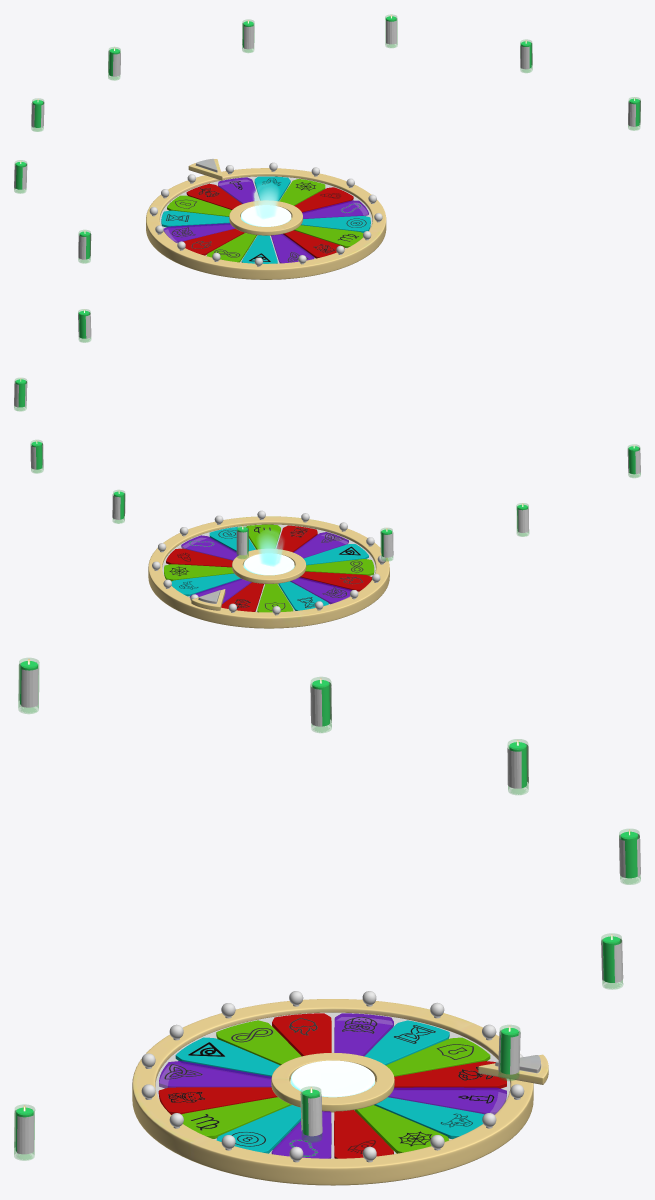
The model's file is alligatorStroll6.glb.
3 renders of one model, top to bottom at view 1: azimuth 30°, elevation 25°; view 2: azimuth 150°, elevation 25°; view 3: azimuth 270°, elevation 25°, orthographic. The views are drawn at different scales.
Visible parts, largest first — view 1: base, center_circle_frame, spheres, base_field, wheel_section.002, wheel_section.010, wheel_section.003, wheel_section.009, wheel_section.011, wheel_section.001, center_circle, wheel_section.004 (+11 smaller); view 2: base, center_circle_frame, spheres, wheel_section.004, wheel_section.014, wheel_section.013, wheel_section.005, wheel_section.012, center_circle, wheel_section.003, wheel_section.006, Object_3 (+11 smaller); view 3: base, center_circle_frame, spheres, center_circle, wheel_section.008, wheel_section.015, wheel_section.007, wheel_section.014, wheel_section.009, wheel_section.001, wheel_section.013, wheel_section.006 (+10 smaller).
Boxes of the visible parts, bbox=[...] form: base: bbox=[146, 168, 386, 279]; center_circle_frame: bbox=[229, 200, 302, 235]; spheres: bbox=[149, 162, 382, 266]; base_field: bbox=[160, 176, 372, 263]; wheel_section.002: bbox=[161, 210, 229, 227]; wheel_section.010: bbox=[301, 216, 370, 232]; wheel_section.003: bbox=[163, 223, 234, 243]; wheel_section.009: bbox=[294, 225, 363, 247]; wheel_section.011: bbox=[302, 200, 368, 218]; wheel_section.001: bbox=[167, 195, 231, 216]; center_circle: bbox=[241, 205, 291, 226]; wheel_section.004: bbox=[183, 228, 244, 255]; base: bbox=[148, 516, 389, 628]; center_circle_frame: bbox=[232, 549, 306, 584]; spheres: bbox=[152, 510, 385, 615]; wheel_section.004: bbox=[300, 571, 372, 591]; wheel_section.014: bbox=[171, 573, 240, 596]; wheel_section.013: bbox=[164, 564, 233, 581]; wheel_section.005: bbox=[305, 559, 374, 575]; wheel_section.012: bbox=[166, 548, 232, 567]; center_circle: bbox=[243, 554, 294, 575]; wheel_section.003: bbox=[290, 577, 351, 604]; wheel_section.006: bbox=[303, 544, 368, 565]; Object_3: bbox=[258, 530, 283, 566]; base: bbox=[132, 999, 533, 1185]; center_circle_frame: bbox=[271, 1053, 394, 1112]; spheres: bbox=[141, 991, 524, 1162]; center_circle: bbox=[290, 1060, 374, 1097]; wheel_section.008: bbox=[158, 1087, 277, 1114]; wheel_section.015: bbox=[388, 1087, 506, 1114]; wheel_section.007: bbox=[159, 1061, 271, 1088]; wheel_section.014: bbox=[374, 1097, 484, 1138]; wheel_section.009: bbox=[181, 1097, 291, 1138]; wheel_section.001: bbox=[386, 1037, 490, 1076]; wheel_section.013: bbox=[354, 1105, 448, 1153]; wheel_section.006: bbox=[175, 1037, 279, 1076].
Size of what is drawn, in the model's own units: 5.22 by 1.23 by 3.03.
29 materials, 20 textured.
